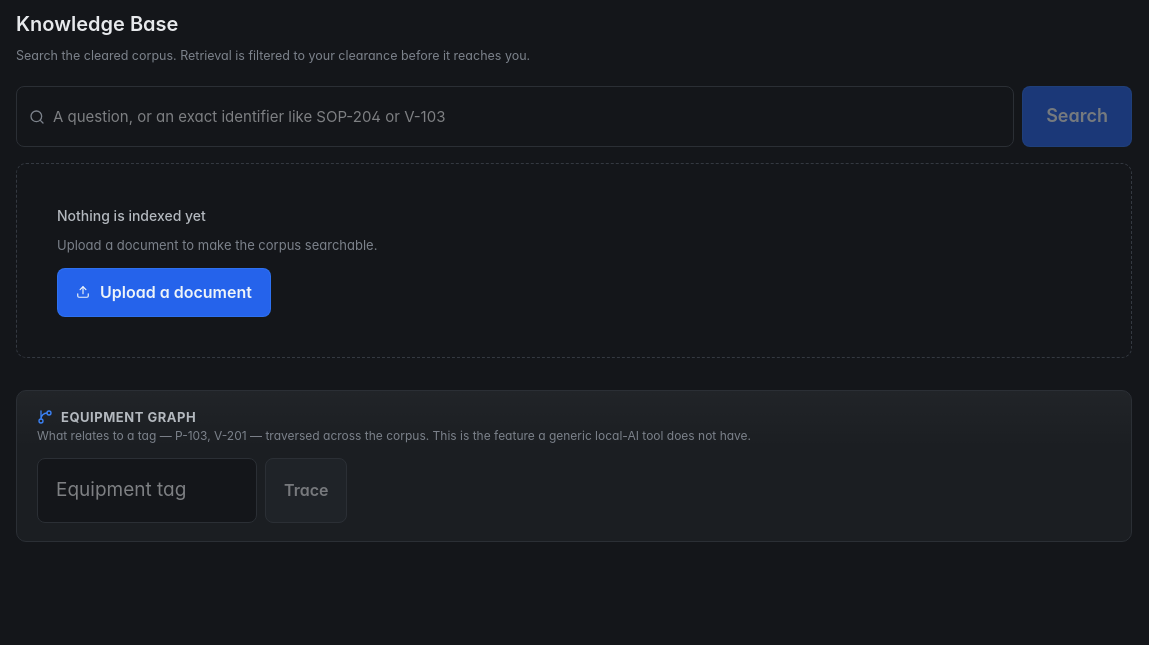
Test: the equipment graph › labels a same-page co-occurrence as the weaker claim it is
Type "p-103" into the field with placeholder "Equipment tag" at [147, 490], box [37, 458, 257, 522]
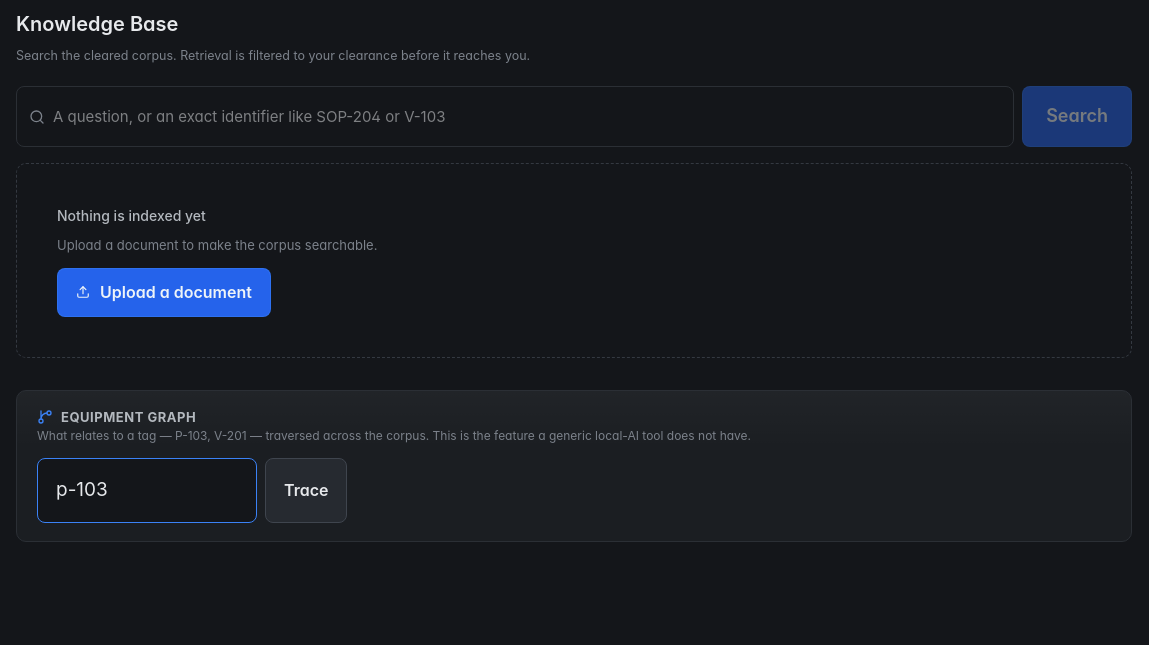
Click the button "Trace" at [306, 490], box [265, 458, 347, 522]
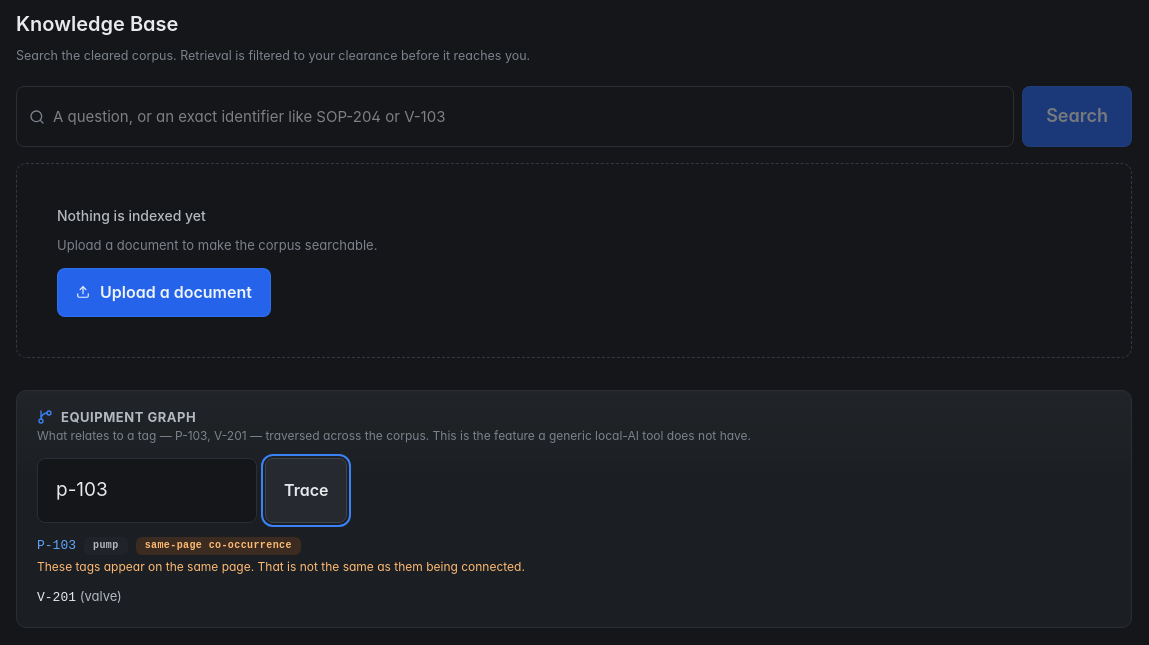
Expected: the text "same-page co-occurrence" is shown, [136, 536, 301, 554]
Expected: the text "not the same as them being connected" is shown, [37, 559, 525, 574]
